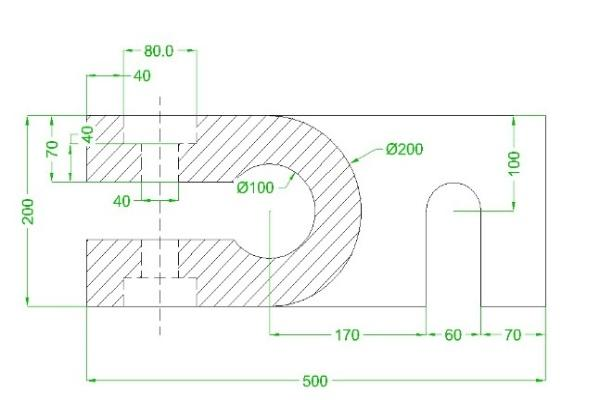dimensions: (232, 173, 280, 196), (384, 138, 432, 160), (140, 37, 179, 63), (502, 146, 531, 178), (294, 369, 334, 392), (17, 194, 43, 226), (126, 66, 159, 85), (502, 320, 526, 346), (39, 136, 64, 160), (336, 324, 365, 344), (110, 192, 136, 212), (78, 123, 98, 147), (439, 326, 467, 342)
